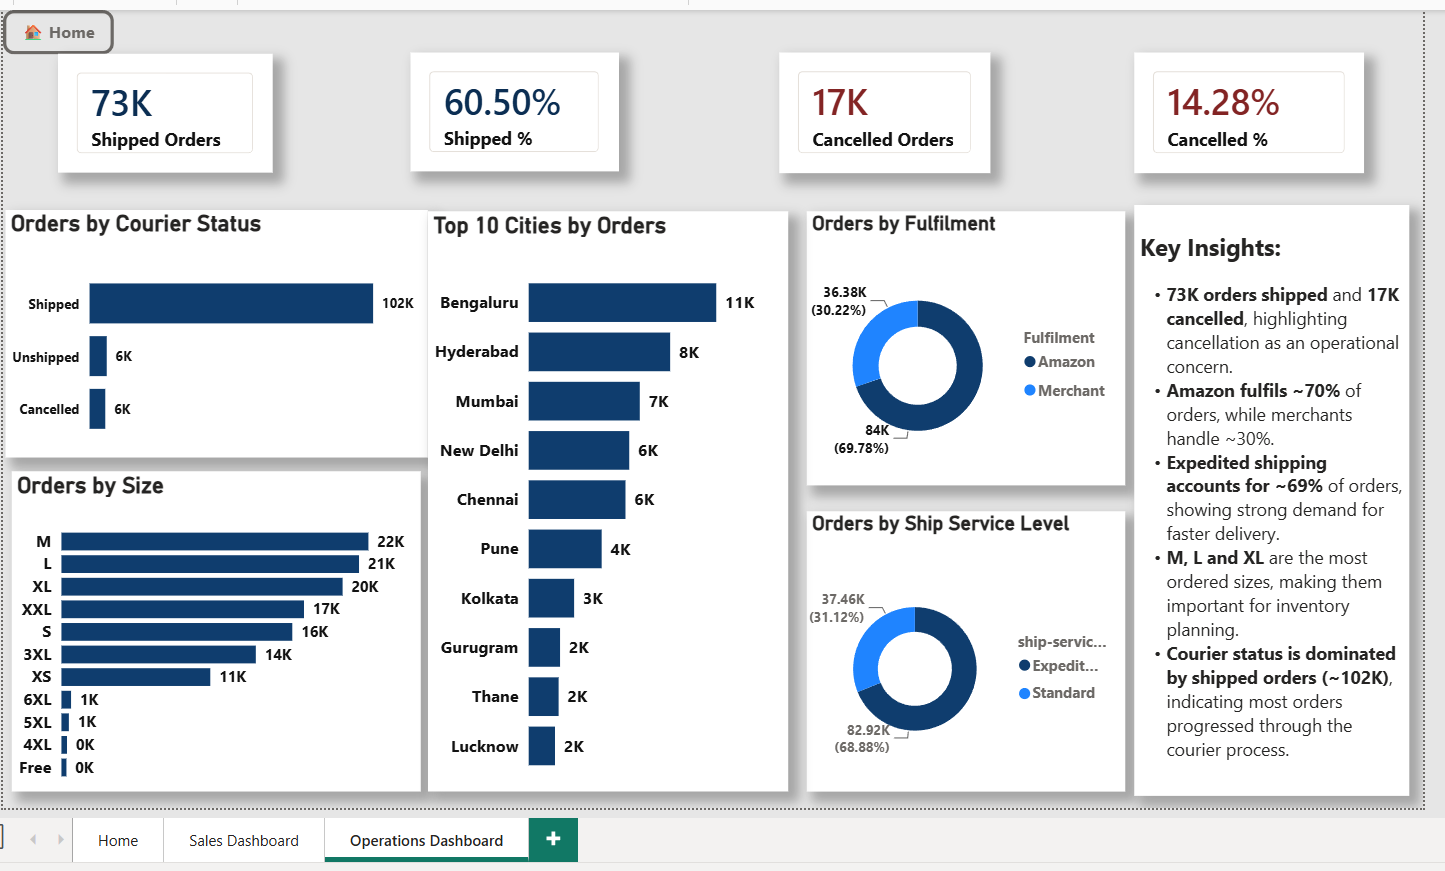

This screenshot's page, from the dashboard's own definition file:
{"tool":"powerbi","page":{"name":"Operations Dashboard","canvas":[1280,720],"ordinal":2},"visuals":[{"type":"actionButton","box":[0,0,100,40],"z":0},{"type":"cardVisual","fields":{"Data":["Amazon Sale Report.Cancelled %"]},"box":[1029.2,39.8,207.2,108.4],"z":1000},{"type":"cardVisual","fields":{"Data":["Amazon Sale Report.Shipped %"]},"box":[354.1,39.1,188,107],"z":2000},{"type":"cardVisual","fields":{"Data":["Amazon Sale Report.Shipped Orders"]},"box":[49.7,39.1,193.5,107],"z":3000},{"type":"cardVisual","fields":{"Data":["Amazon Sale Report.Cancelled Orders"]},"box":[702.3,39.1,190.7,108.4],"z":4000},{"type":"barChart","title":"Orders by Courier Status","fields":{"Y":["Count(Amazon Sale Report.Order ID)"],"Category":["Amazon Sale Report.Courier Status"]},"box":[2.3,180.3,381.1,223.3],"z":5000},{"type":"donutChart","title":"Orders by Fulfilment","fields":{"Category":["Amazon Sale Report.Fulfilment"],"Y":["Count(Amazon Sale Report.Order ID)"]},"box":[724.7,181.5,287.4,246.8],"z":6000},{"type":"barChart","title":"Orders by Size","fields":{"Category":["Amazon Sale Report.Size"],"Y":["Count(Amazon Sale Report.Order ID)"]},"box":[7.9,415.9,368.6,288.5],"z":7000},{"type":"donutChart","title":"Orders by Ship Service Level","fields":{"Category":["Amazon Sale Report.ship-service-level"],"Y":["Count(Amazon Sale Report.Order ID)"]},"box":[724.7,452,287.4,252.5],"z":8000},{"type":"barChart","title":"Top 10 Cities by Orders","fields":{"Category":["Amazon Sale Report.ship-city"],"Y":["Count(Amazon Sale Report.Order ID)"]},"box":[383.2,181.5,324.6,523],"z":9000},{"type":"textbox","box":[1020,175.8,248,533.1],"z":10000}]}

Visuals, with their boxes on the page's 1280x720 design canvas (x1, y1, x2, y2). These are canvas units, not pixel positions in the 1445x871 screenshot, which may show the page scaled, cropped or inside an application window:
actionButton: <box>0,0,100,40</box>
cardVisual - Amazon Sale Report.Cancelled %: <box>1029,40,1236,148</box>
cardVisual - Amazon Sale Report.Shipped %: <box>354,39,542,146</box>
cardVisual - Amazon Sale Report.Shipped Orders: <box>50,39,243,146</box>
cardVisual - Amazon Sale Report.Cancelled Orders: <box>702,39,893,148</box>
"Orders by Courier Status" barChart: <box>2,180,383,404</box>
"Orders by Fulfilment" donutChart: <box>725,182,1012,428</box>
"Orders by Size" barChart: <box>8,416,376,704</box>
"Orders by Ship Service Level" donutChart: <box>725,452,1012,704</box>
"Top 10 Cities by Orders" barChart: <box>383,182,708,704</box>
textbox: <box>1020,176,1268,709</box>
